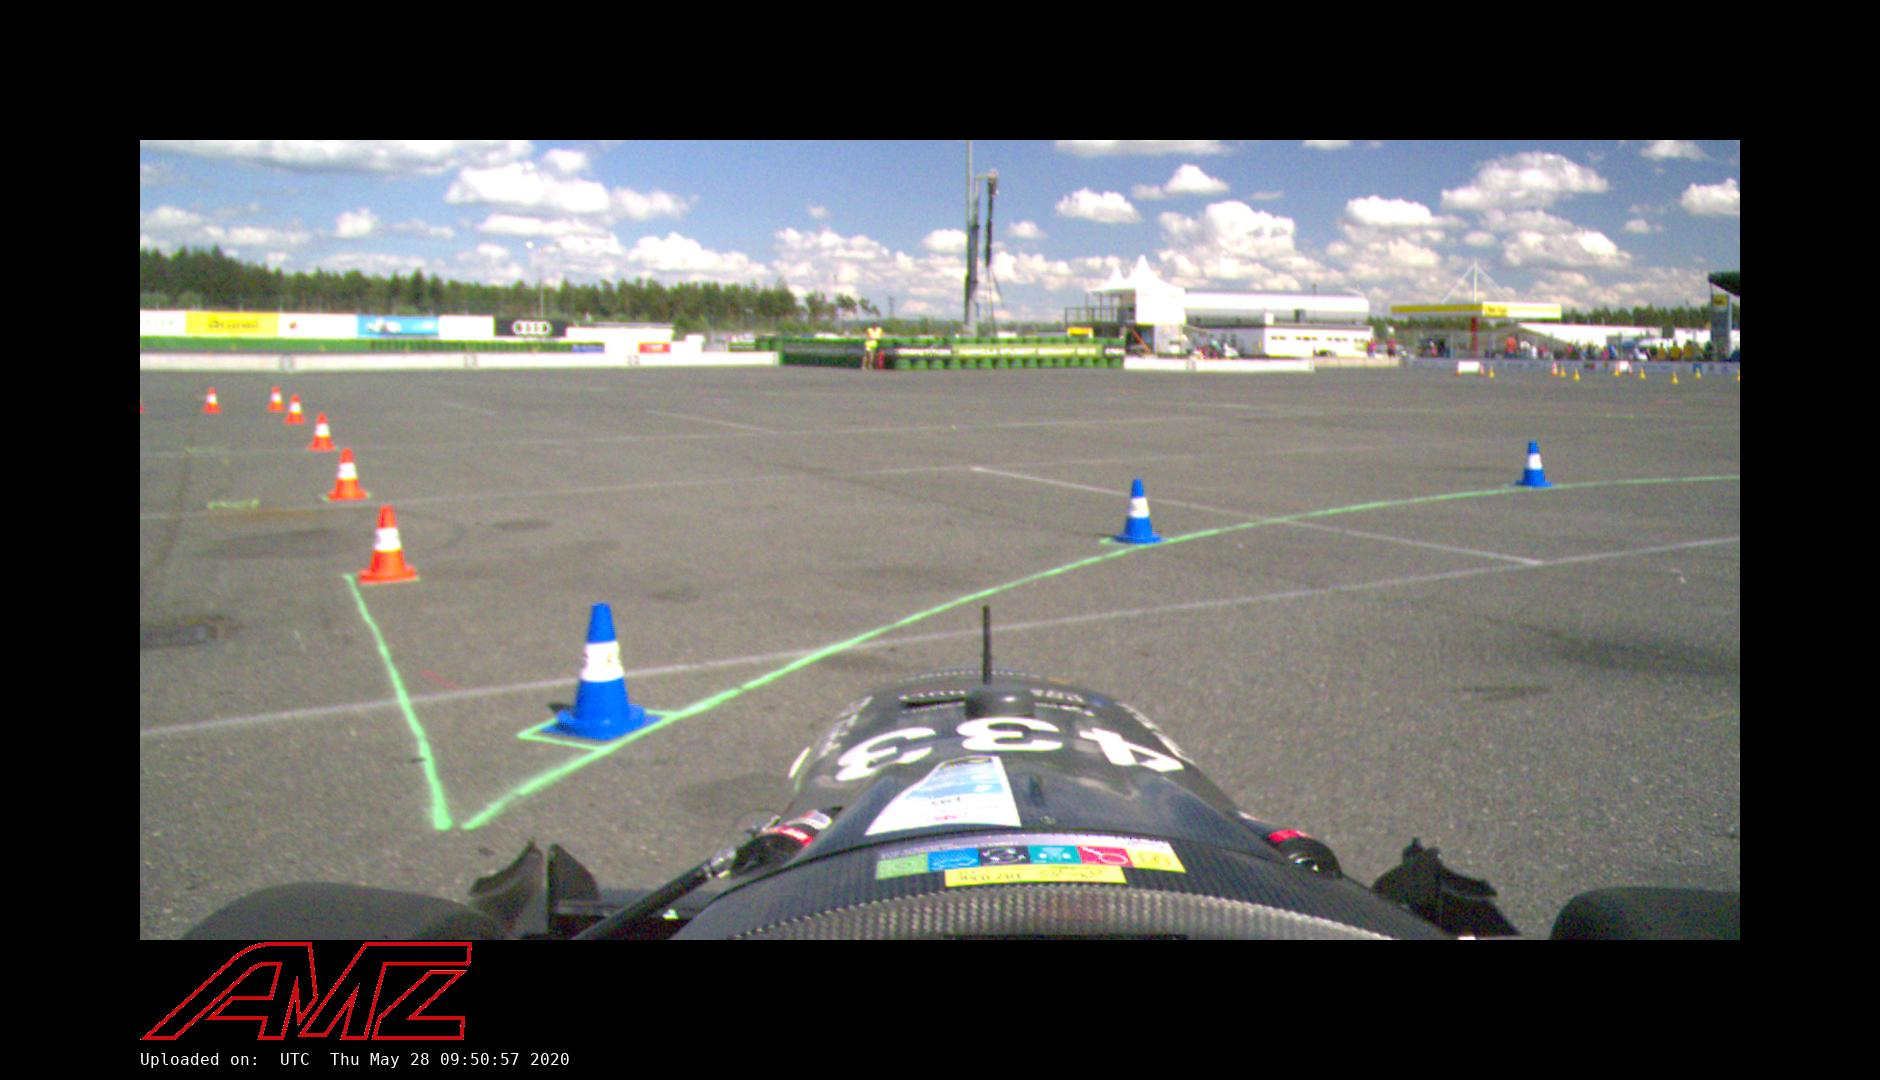blue_cone: (541, 599, 662, 744), (1110, 475, 1156, 543), (1515, 441, 1553, 488)
orange_cone: (359, 506, 416, 583), (325, 453, 365, 500), (311, 410, 334, 453), (285, 391, 305, 428), (200, 381, 220, 413), (269, 381, 285, 416)
